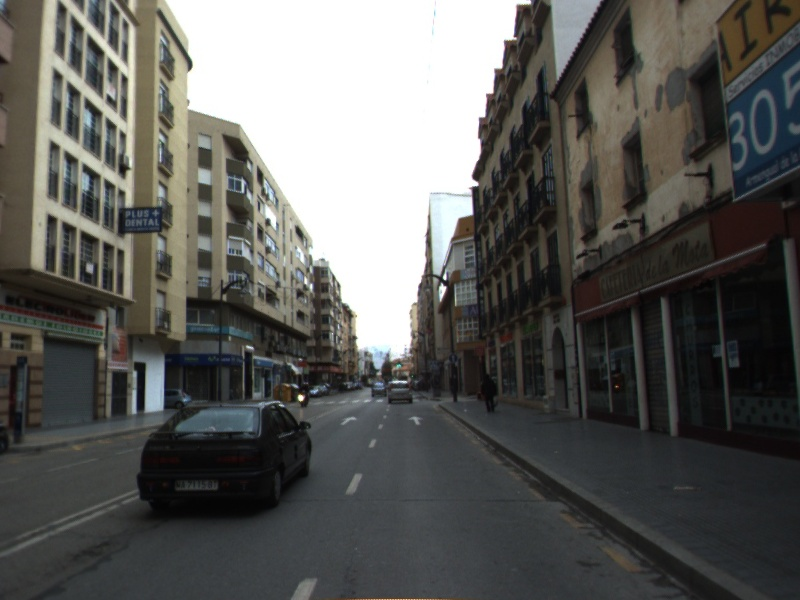STRAIGHT: (338, 414, 360, 427), (406, 414, 426, 427)
